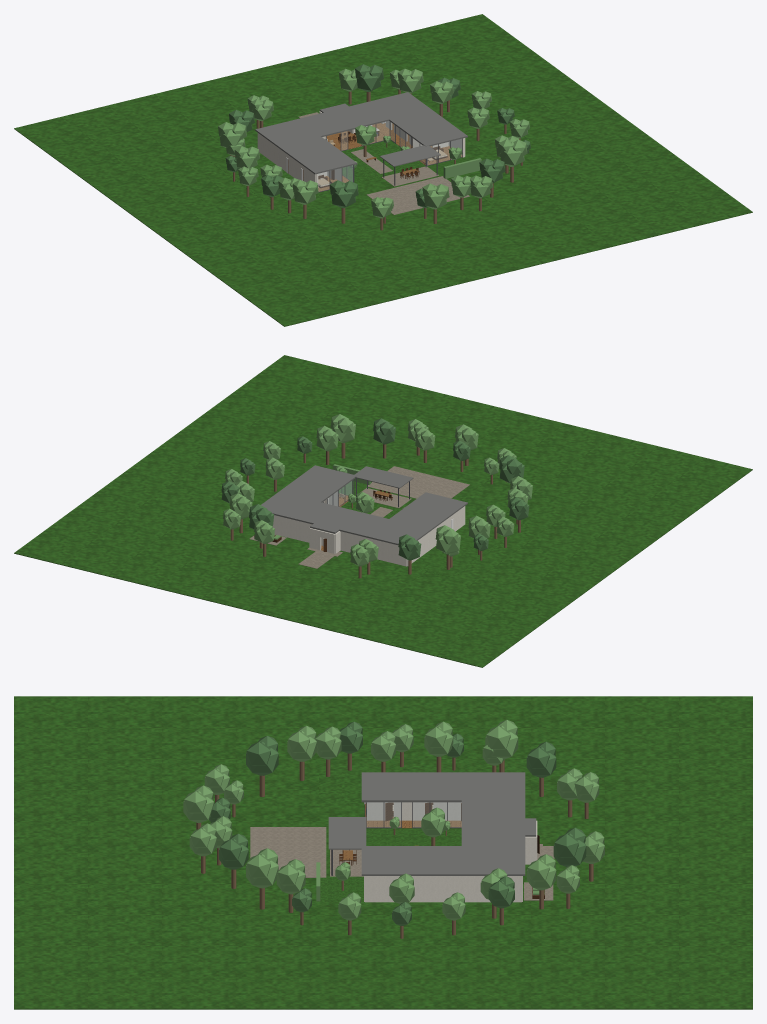
The model's file is house.glb.
The picture shows the model from 3 angles, top to bottom: view 1: azimuth 30°, elevation 25°; view 2: azimuth 150°, elevation 25°; view 3: azimuth 270°, elevation 25°; orthographic projection. The views are drawn at different scales.
Parts seen in each view (by area): view 1: Land_Ground, Roof_East, Roof_West, Roof_North, Land_WestLawn, Land_Courtyard, Land_Terrace, Wall_ExtWest_0, Roof_CoveredDining, Glass_SouthWest_0_glass, Floor_East; view 2: Land_Ground, Roof_West, Roof_East, Land_WestLawn, Roof_North, Land_Terrace, Wall_ExtNorthW_0, Wall_ExtNorthE_0, Roof_CoveredDining, Wall_ExtWest_0; view 3: Land_Ground, Roof_West, Roof_East, Roof_North, Land_Terrace, Wall_ExtEast_0, Land_WestLawn, Land_Courtyard, Roof_CoveredDining, Land_PrivGarden, Glass_CourtWest_1_glass, Glass_CourtWest_0_glass (+2 smaller).
Part boxes in pixels (<box>): Land_Ground: <box>14,14,752,326</box>; Roof_East: <box>367,92,467,146</box>; Roof_West: <box>255,119,357,174</box>; Roof_North: <box>294,101,392,136</box>; Land_WestLawn: <box>212,152,332,216</box>; Land_Courtyard: <box>342,140,425,183</box>; Land_Terrace: <box>366,176,469,214</box>; Wall_ExtWest_0: <box>257,133,315,182</box>; Roof_CoveredDining: <box>379,145,440,166</box>; Glass_SouthWest_0_glass: <box>318,165,353,191</box>; Floor_East: <box>372,123,462,164</box>; Land_Ground: <box>14,355,752,667</box>; Roof_West: <box>366,492,467,545</box>; Roof_East: <box>261,465,356,520</box>; Land_WestLawn: <box>407,512,527,577</box>; Roof_North: <box>295,501,391,537</box>; Land_Terrace: <box>366,466,469,498</box>; Wall_ExtNorthW_0: <box>340,531,406,566</box>; Wall_ExtNorthE_0: <box>273,515,312,542</box>; Roof_CoveredDining: <box>354,466,413,488</box>; Wall_ExtWest_0: <box>407,506,465,566</box>; Land_Ground: <box>14,696,752,1009</box>; Roof_West: <box>361,772,525,802</box>; Roof_East: <box>361,846,525,875</box>; Roof_North: <box>461,797,525,848</box>; Land_Terrace: <box>250,827,326,877</box>; Wall_ExtEast_0: <box>365,876,521,902</box>; Land_WestLawn: <box>319,771,521,802</box>; Land_Courtyard: <box>366,828,461,845</box>; Roof_CoveredDining: <box>328,817,366,849</box>; Land_PrivGarden: <box>317,876,363,901</box>; Glass_CourtWest_1_glass: <box>413,802,461,827</box>; Glass_CourtWest_0_glass: <box>367,802,400,827</box>.
Size of the model in its own units: 80 by 8.03 by 80.
Materials: 24 (10 with a texture image).
